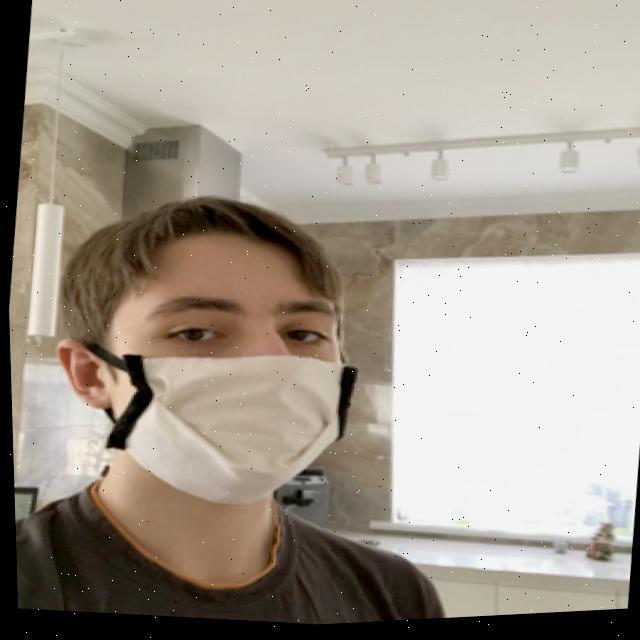Mask: (32, 321, 362, 523)
